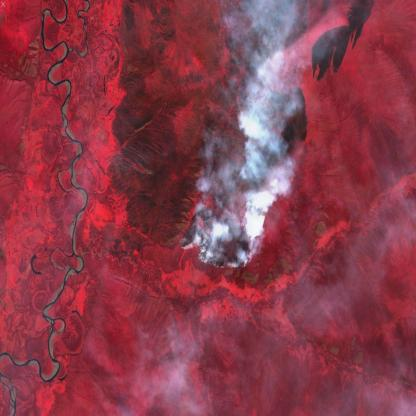fire: (174, 214, 262, 275)
